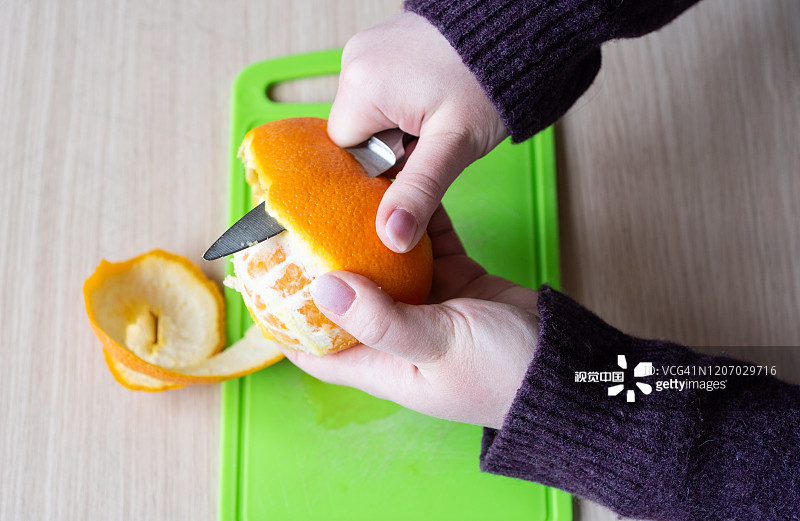no-phone: (185, 151, 567, 468), (301, 1, 559, 263)
